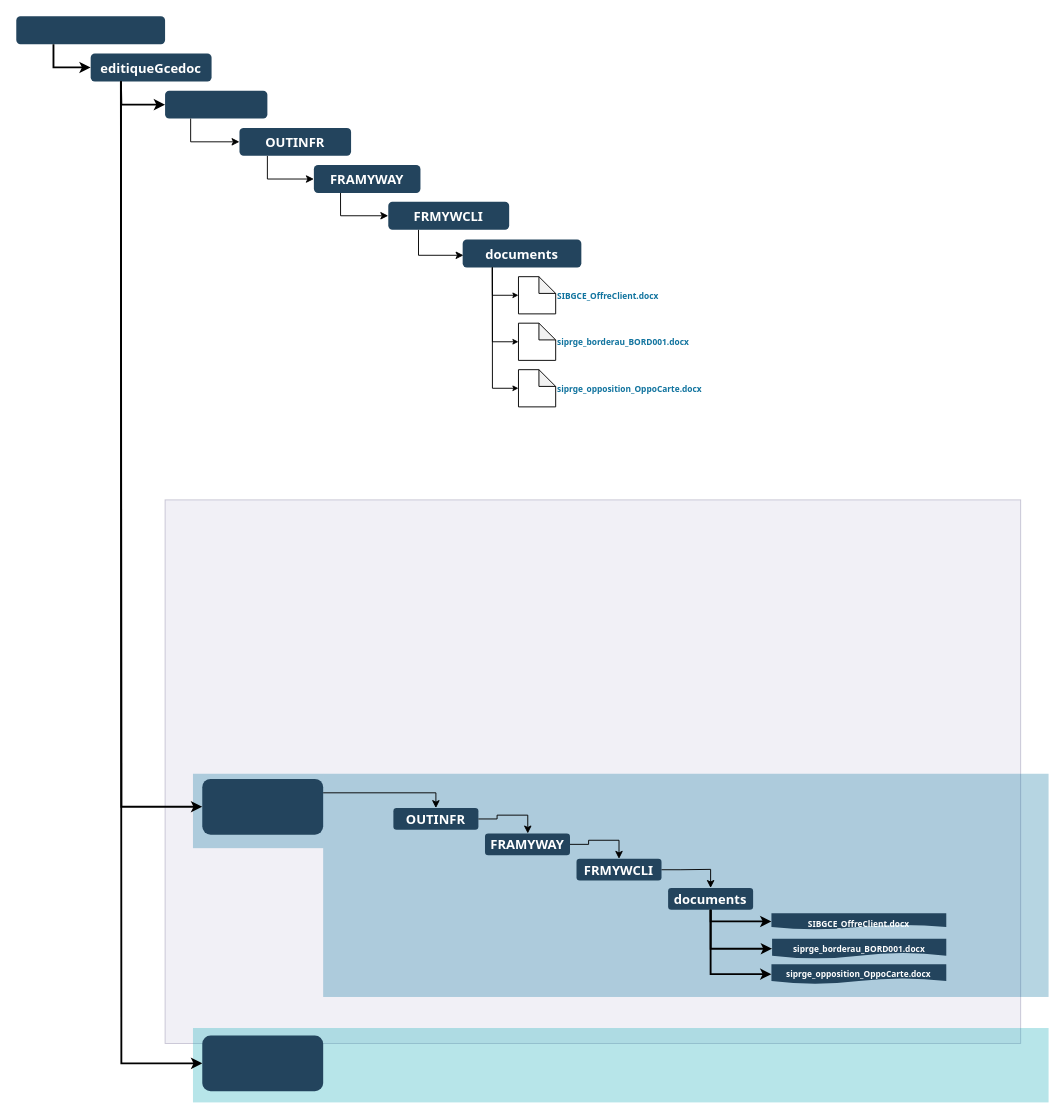
Image size: 1064x1118. Some labels were removed from this diagram. Each missing label, with the centre of its shape:
cd: point 216,104
filiale: point 262,806
mysys: point 262,1063
outinfr_framyway: point 90,30
